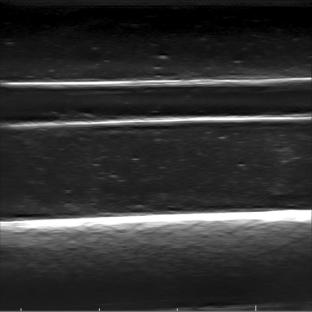vessel: (3, 77, 309, 128)
